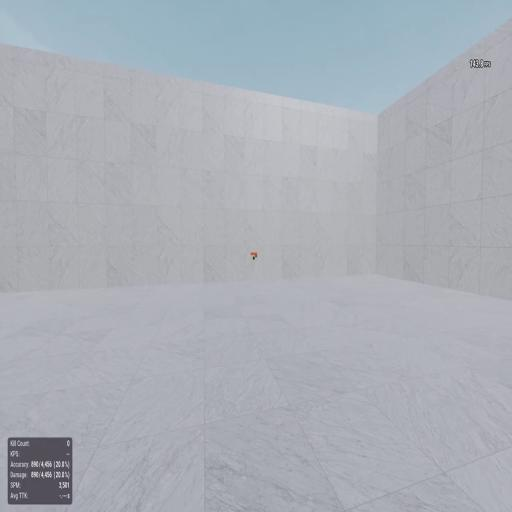Crosshair: (255, 254, 257, 258)
Target: (253, 256, 255, 260)
